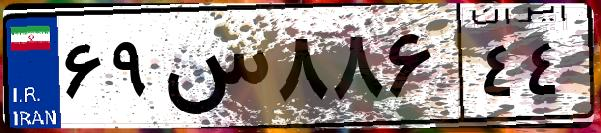4: (475, 38, 525, 113), (525, 38, 570, 115)
6: (385, 28, 445, 110), (57, 26, 110, 100)
8: (270, 28, 330, 110), (330, 28, 385, 110)
9: (110, 28, 158, 98)
س: (158, 20, 270, 120)
